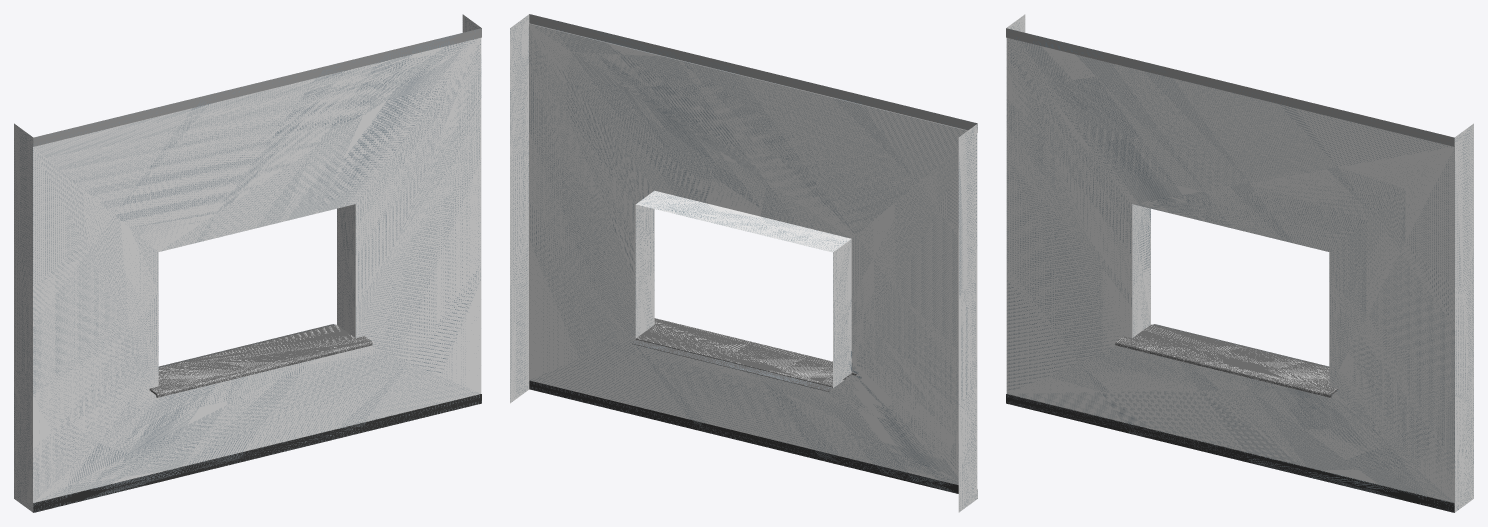
Rendered from WindowBlock_os_plinth_[500x400]_220x143x[100].dae.
3 renders of one model, left to right at view 1: azimuth 30°, elevation 25°; view 2: azimuth 150°, elevation 25°; view 3: azimuth 330°, elevation 25°, orthographic.
Visible parts, largest first — view 1: group_2 (×4), group_1; view 2: group_2 (×4), group_1 (×2); view 3: group_2 (×4), group_1.
Part boxes in pixels (x1=…): group_2 (×4): x1=14, y1=14, x2=481, y2=512; group_1: x1=149, y1=324, x2=372, y2=397; group_2 (×4): x1=510, y1=14, x2=977, y2=512; group_1 (×2): x1=632, y1=318, x2=856, y2=391; group_2 (×4): x1=1006, y1=14, x2=1473, y2=512; group_1: x1=1115, y1=324, x2=1337, y2=397.
Bounding box in the file's own units: 197 × 23.03 × 157.
